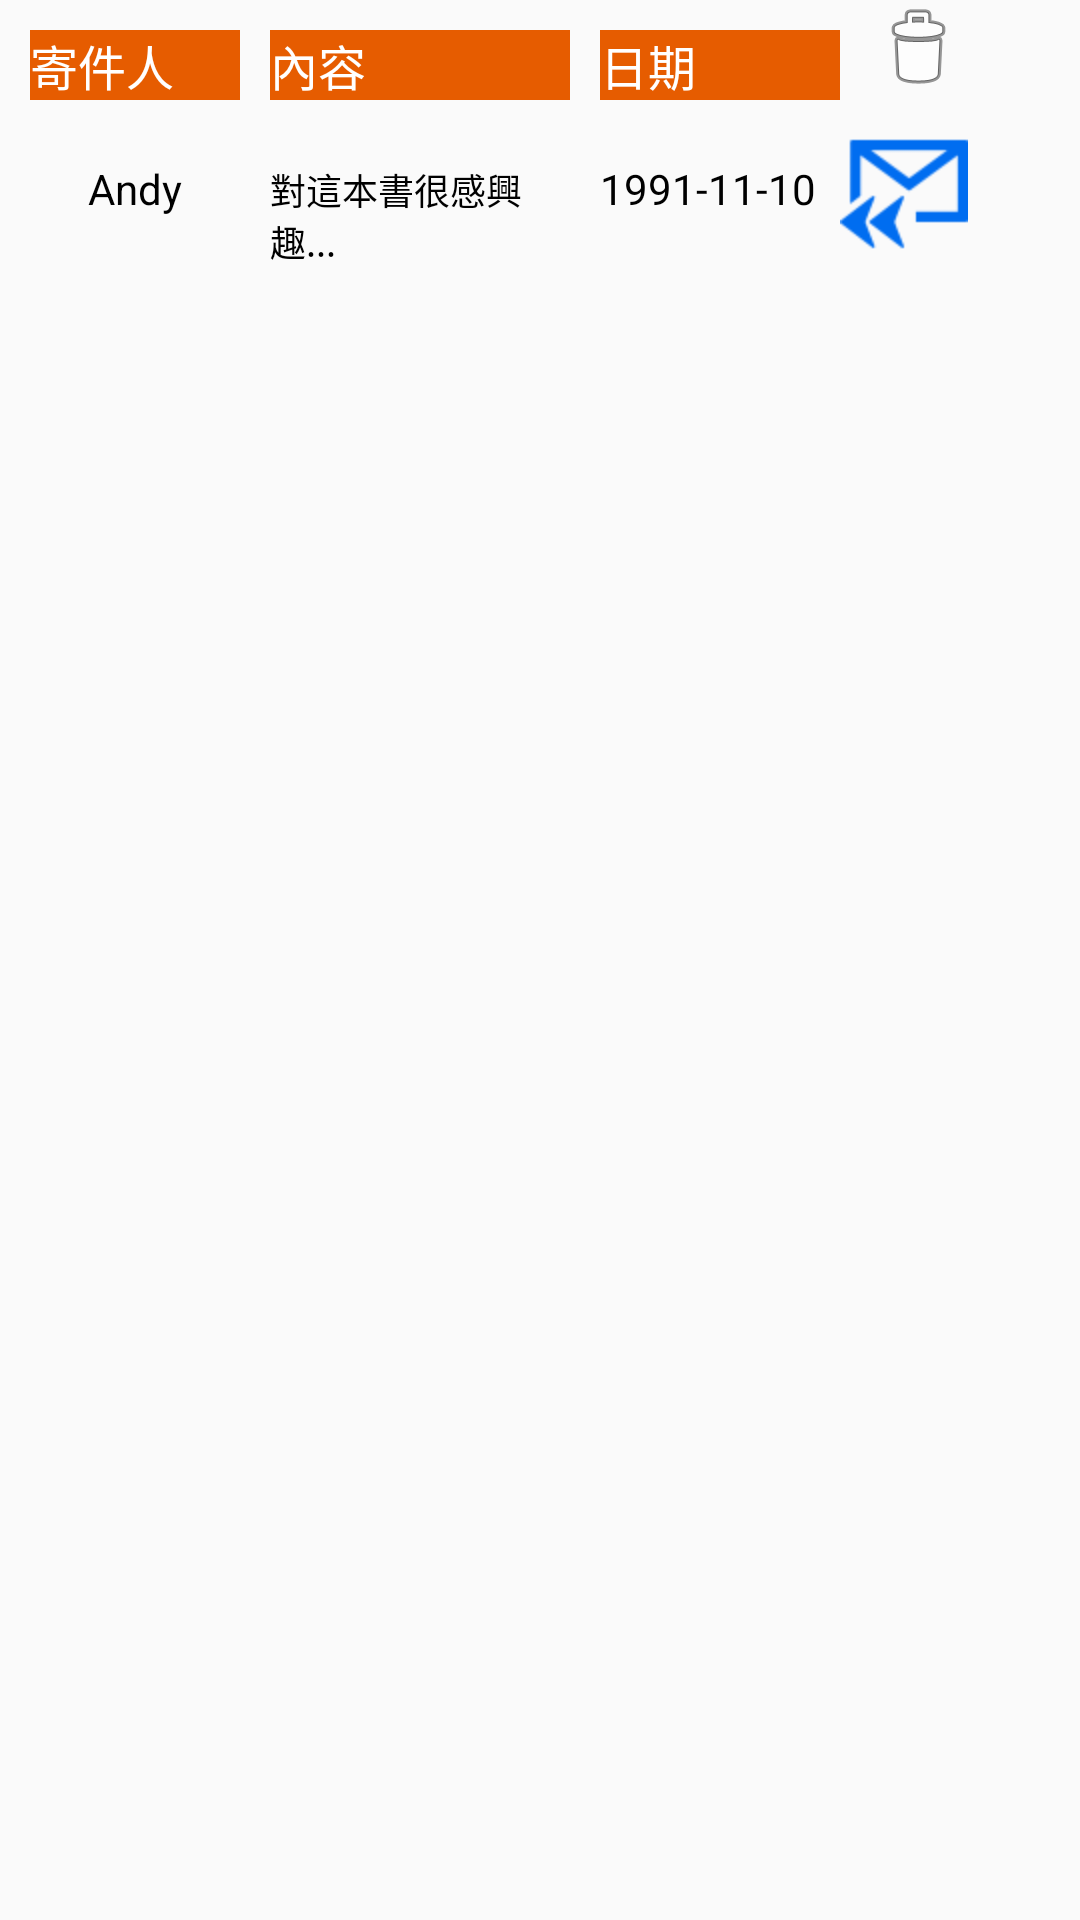

Screen size 1080×1920. Icon name, then its center in pixels as point (x, y):
delete: point (918, 46)
reply: point (904, 194)
